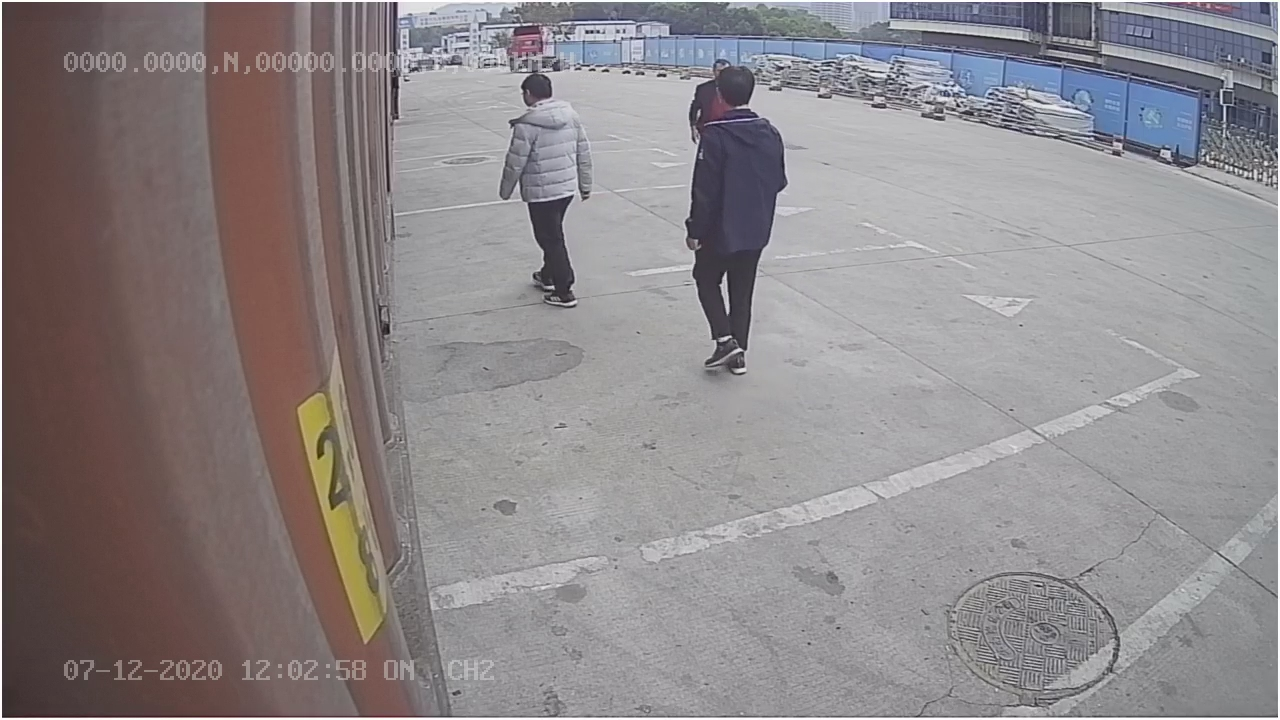person: (498, 65, 599, 315)
